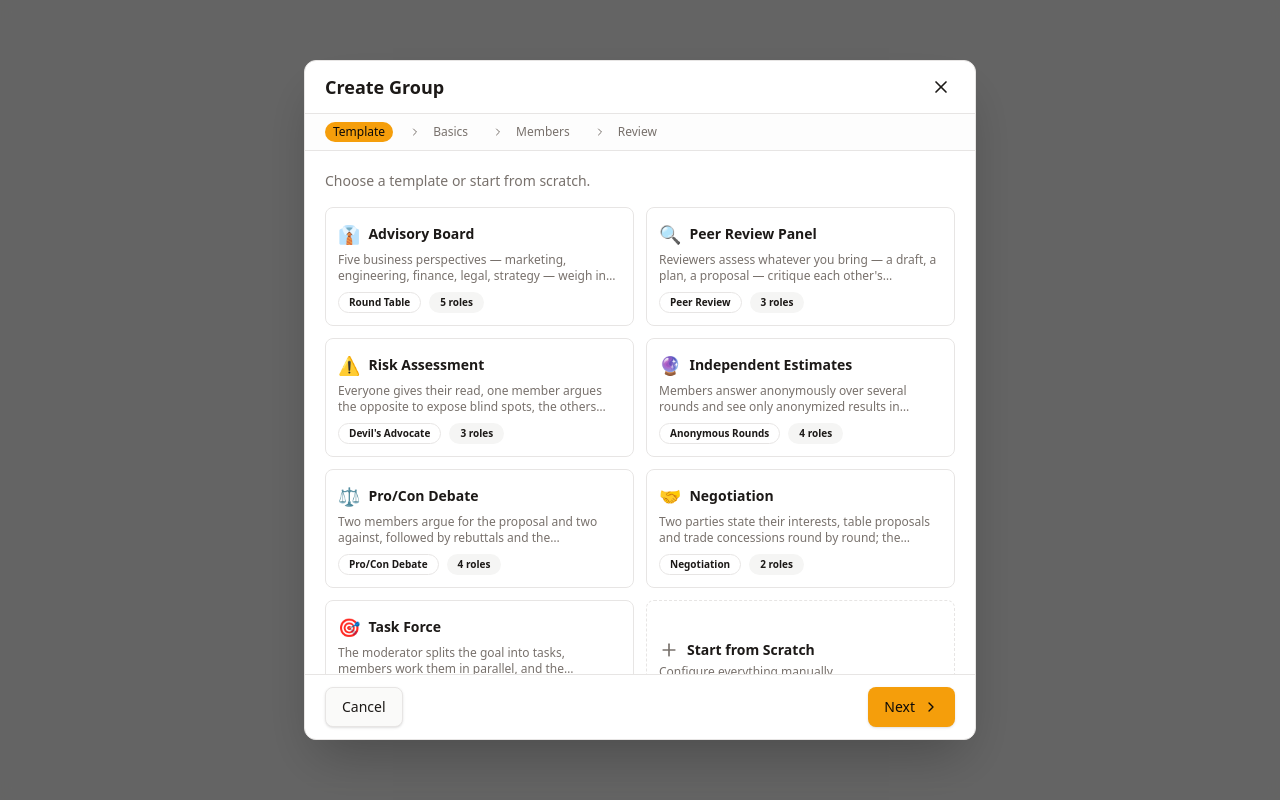
Test: CreateGroupDialog › allows selecting a template to pre-fill basics step
# Select Advisory Board template
Click the button with test id "template-advisory-board".
click(480, 266)  # box [325,207,634,326]
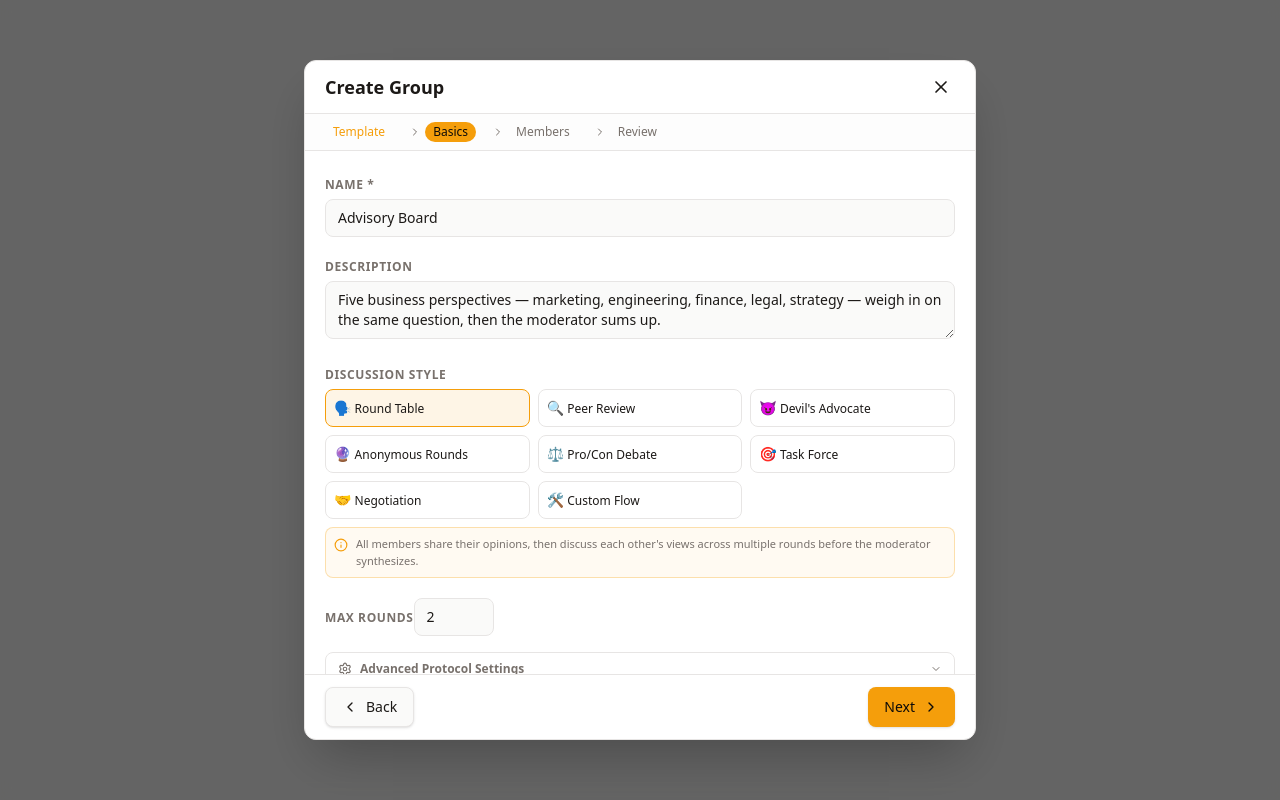
Check: the field with test id "group-name-input" holds "Advisory Board", box [325,199,955,237]
